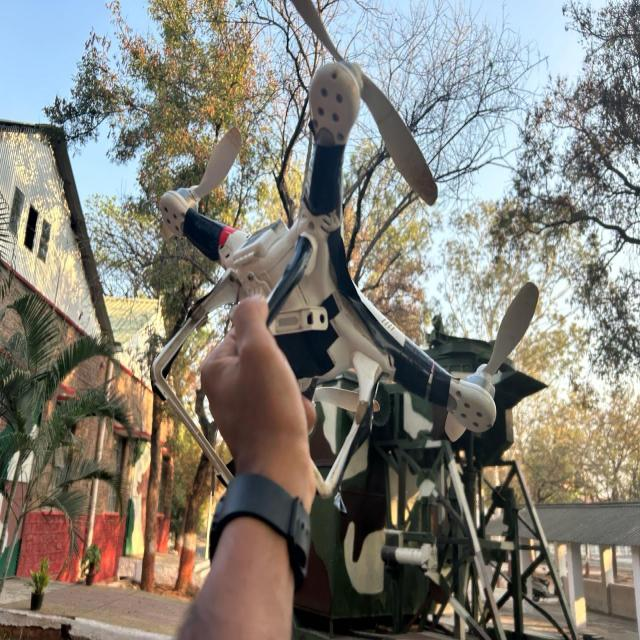drone: (54, 7, 565, 545)
